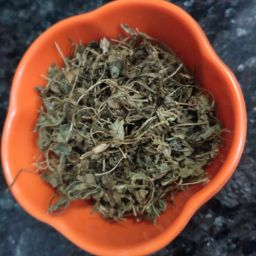Fenugeek (dried): (48, 33, 222, 223), (58, 61, 217, 223), (104, 63, 215, 175), (41, 141, 166, 230), (50, 32, 170, 119), (38, 74, 127, 172)
